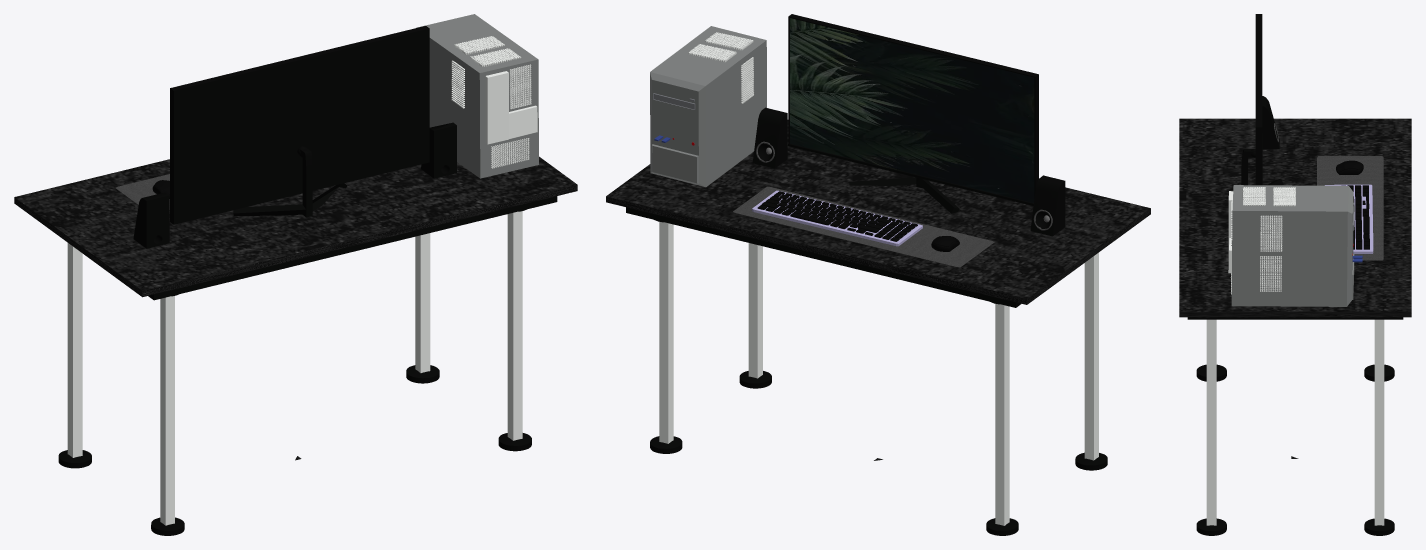
The model's file is pc_desk_2.glb.
The picture shows the model from 3 angles, left to right: view 1: azimuth 30°, elevation 25°; view 2: azimuth 150°, elevation 25°; view 3: azimuth 270°, elevation 25°; orthographic projection. The views are drawn at different scales.
Visible parts, largest first — view 1: Object_4, Object_24, Object_105; view 2: Object_4, Object_24, Object_82, Object_105, Object_101; view 3: Object_24, Object_4, Object_105, Object_101, mouse_47.
Part boxes in pixels (<box>): Object_4: <box>58,14,557,535</box>; Object_24: <box>14,156,577,460</box>; Object_105: <box>115,174,169,209</box>; Object_4: <box>626,14,1107,535</box>; Object_24: <box>606,120,1150,460</box>; Object_82: <box>790,18,1034,202</box>; Object_105: <box>733,186,994,267</box>; Object_101: <box>757,191,917,241</box>; Object_24: <box>1179,118,1411,458</box>; Object_4: <box>1187,14,1403,535</box>; Object_105: <box>1317,156,1383,260</box>; Object_101: <box>1341,185,1369,249</box>; mouse_47: <box>1336,160,1363,174</box>.
Size of what is drawn, in the model's own units: 16.28 by 14.95 by 8.3.
Materials: 5 (4 with a texture image).
